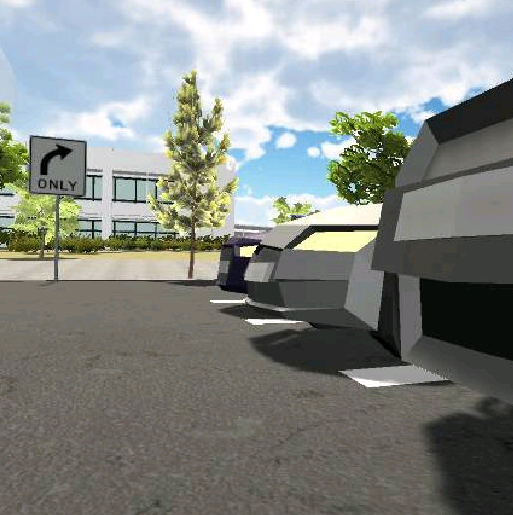arrow_right: (37, 142, 77, 178)
